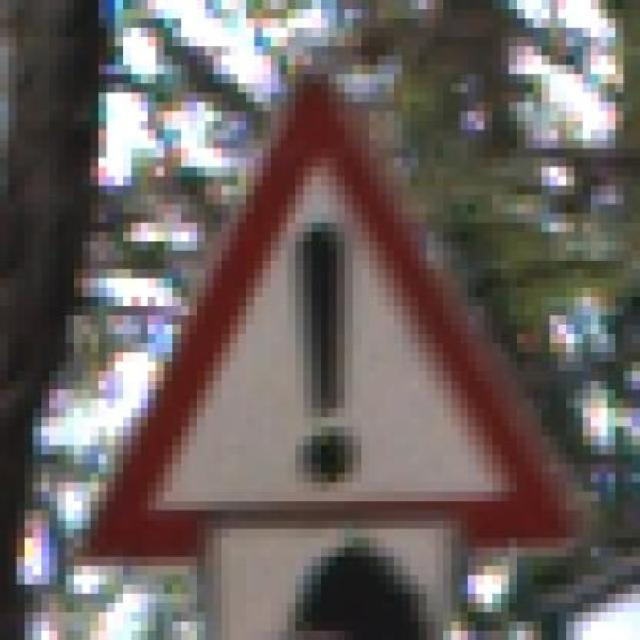Attention Please-: (82, 56, 600, 584)
